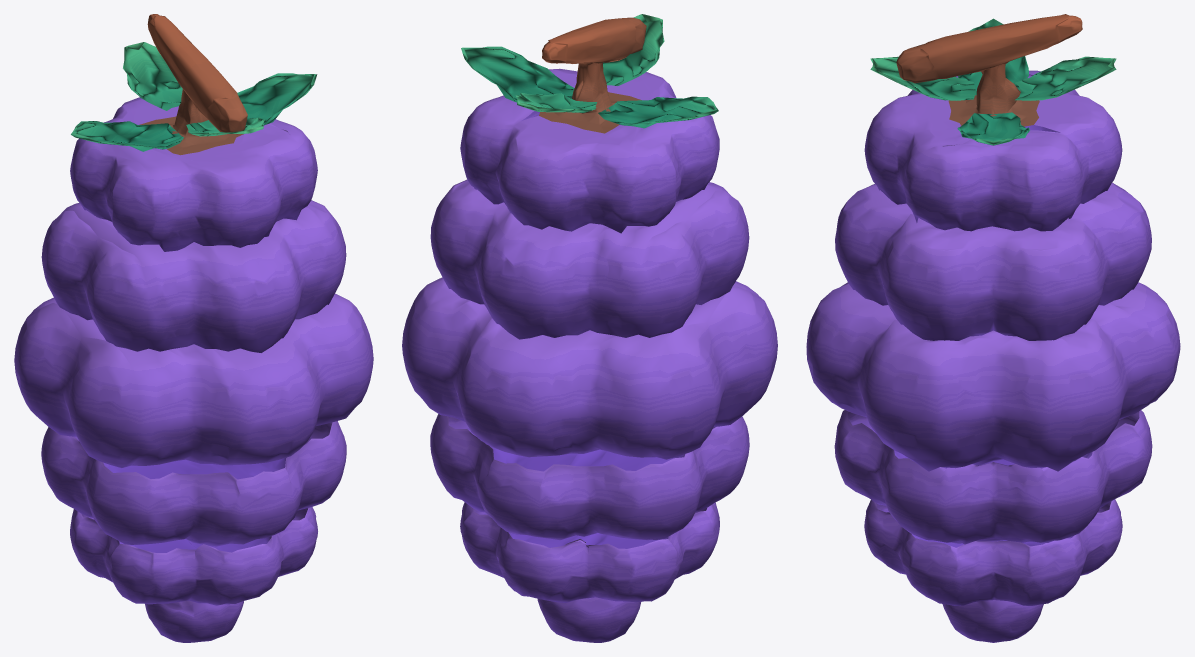
3 views of the same model, side by side, from view 1: azimuth 30°, elevation 25°; view 2: azimuth 150°, elevation 25°; view 3: azimuth 270°, elevation 25° (orthographic). The views are drawn at different scales.
Bounding box in the file's own units: 0.5177 × 0.9965 × 0.5498.
Materials: 1 (1 with a texture image).
